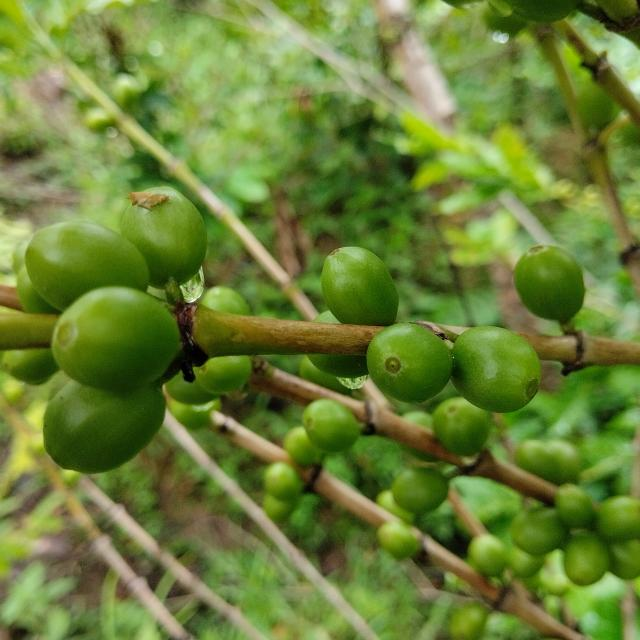green: (51, 286, 179, 391), (42, 380, 165, 474), (24, 221, 149, 310), (120, 186, 207, 287), (452, 326, 542, 413), (367, 323, 453, 403), (322, 246, 399, 326), (515, 245, 586, 323), (433, 397, 492, 457), (302, 399, 360, 453), (392, 468, 449, 515), (565, 534, 611, 587), (307, 354, 369, 379), (313, 310, 339, 323)
